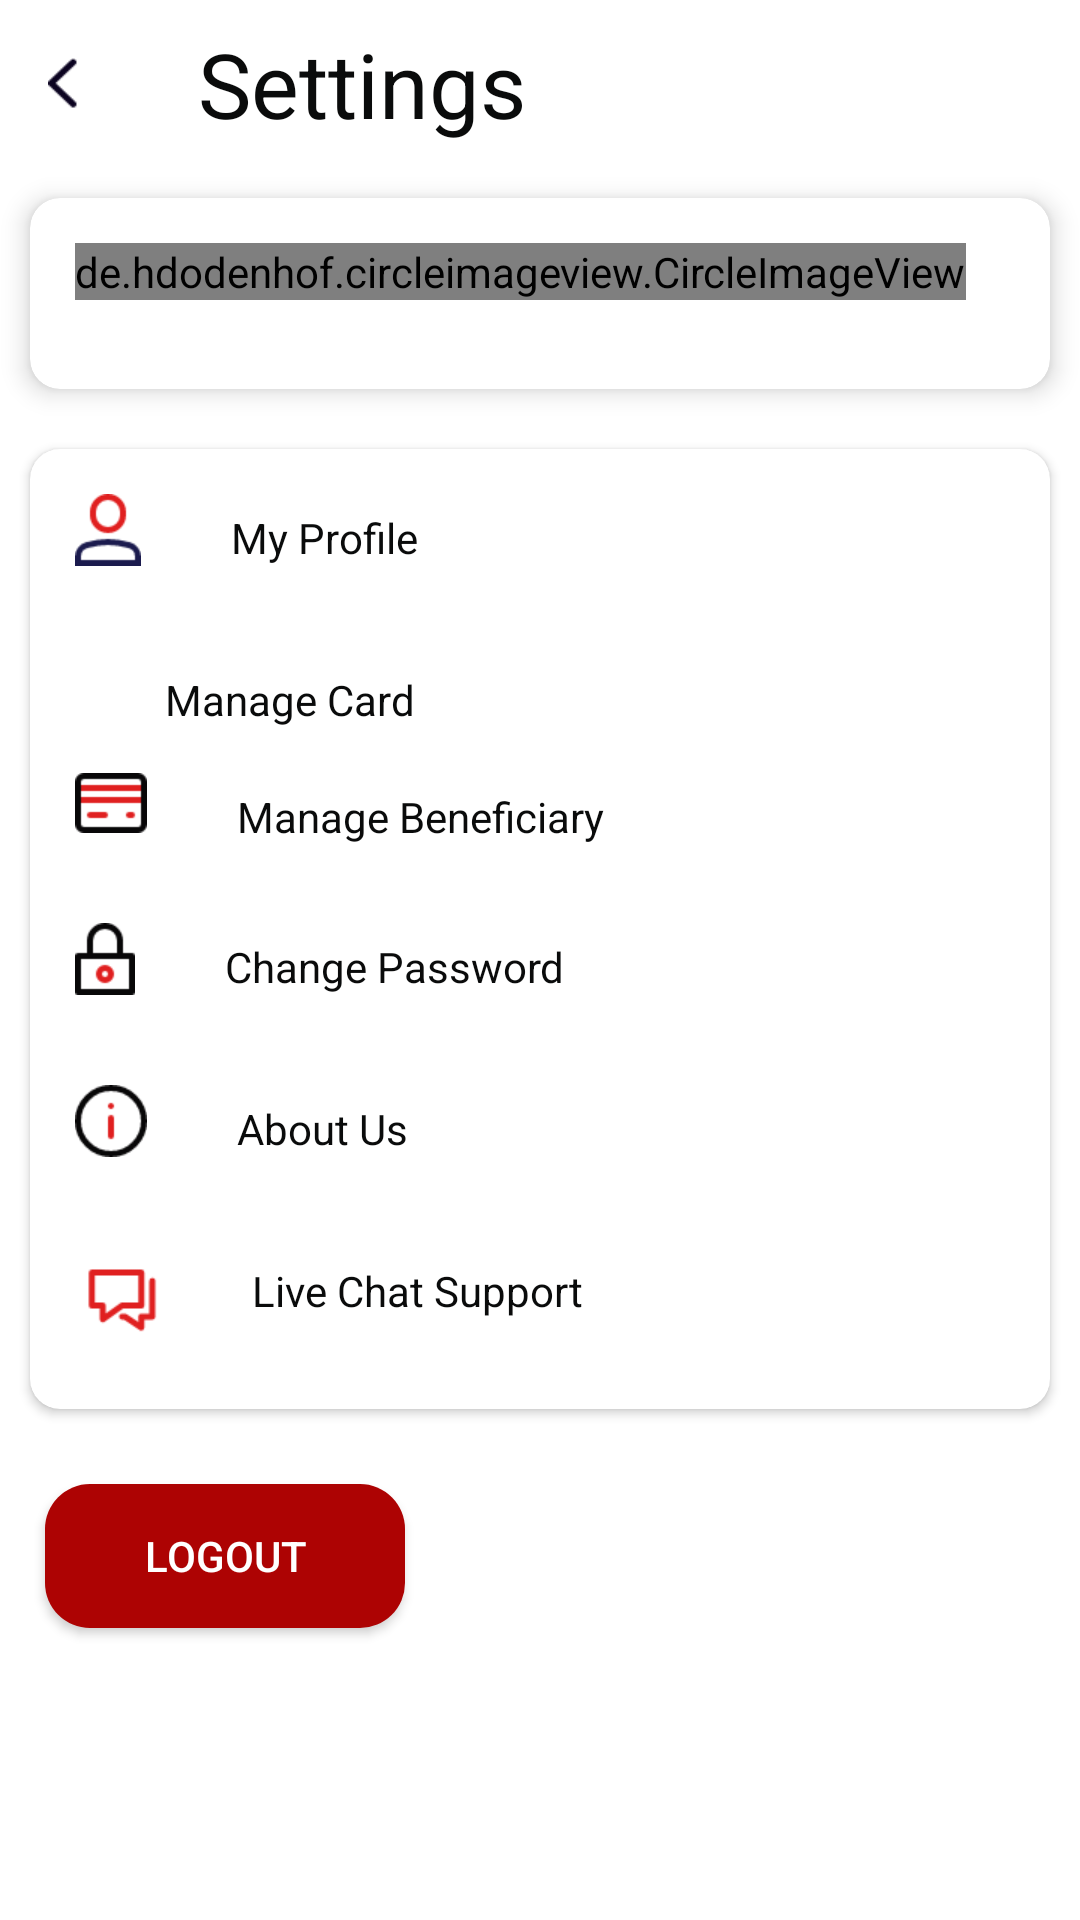

Where to tap for icons on this 1080x1920 app screen, as point (x, y):
person set: point (108, 530)
